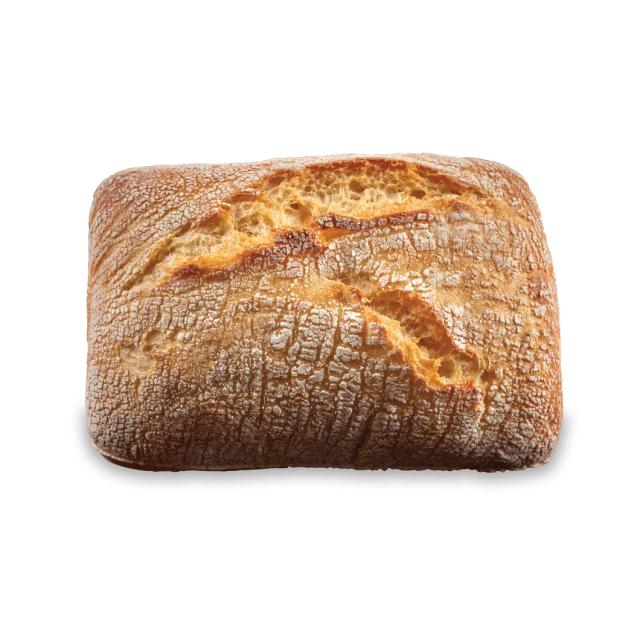Ciabatta: (86, 154, 562, 470)
